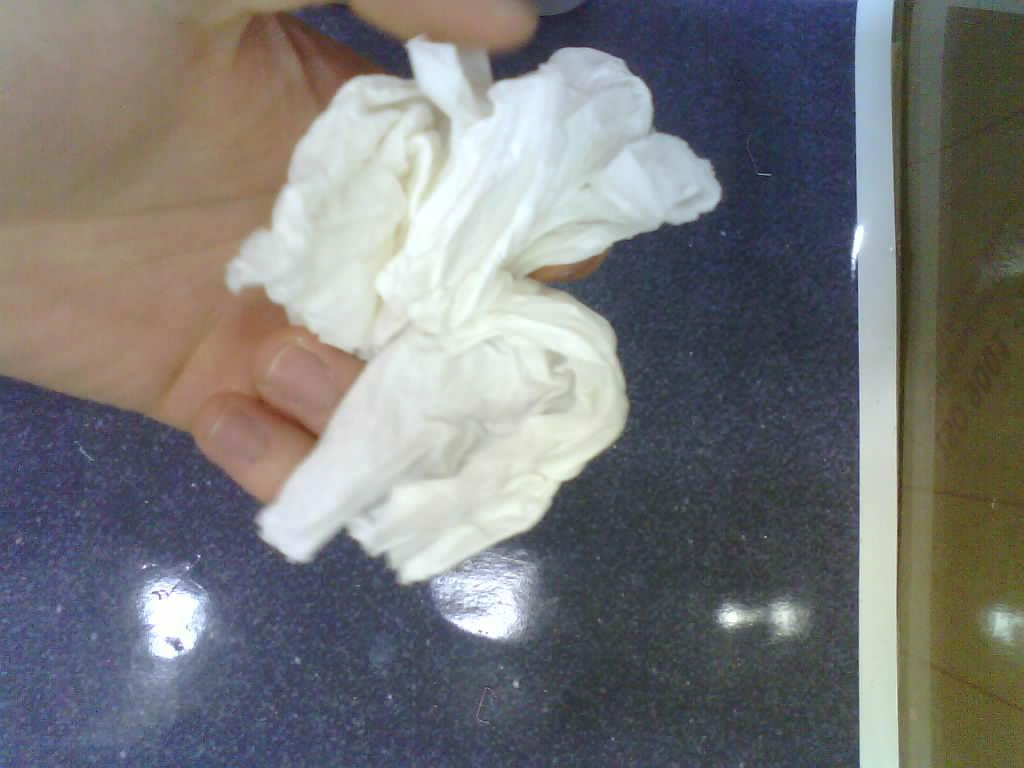paper: (214, 40, 720, 580)
